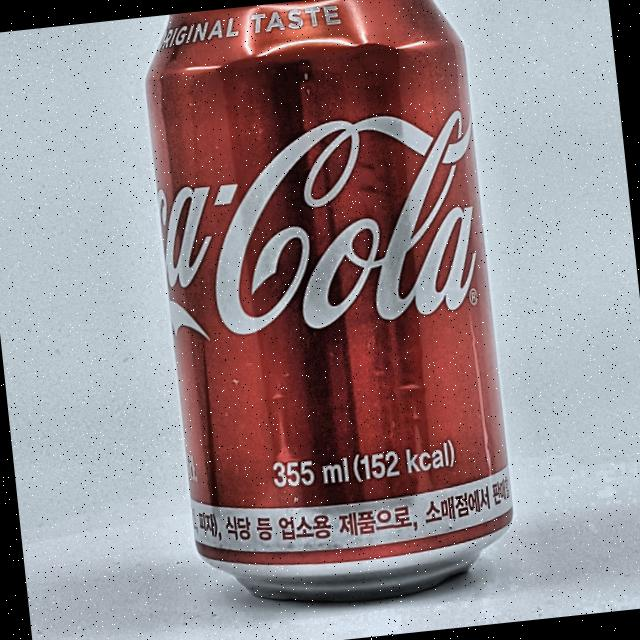cocacola: (144, 0, 531, 631)
